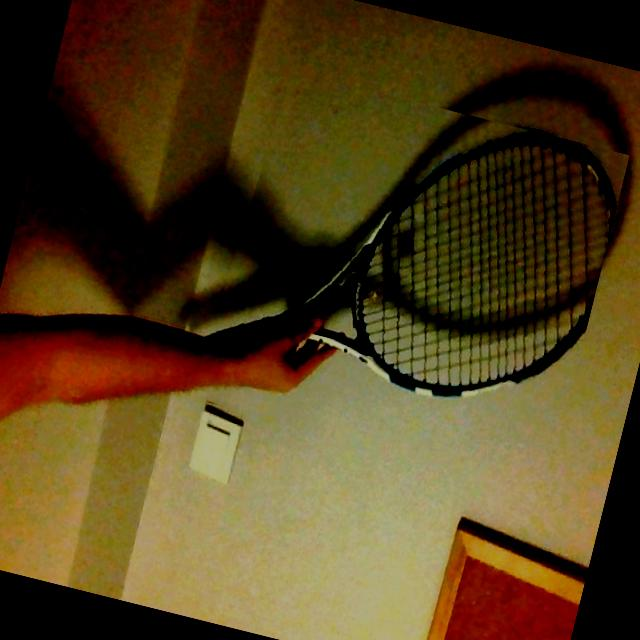TennisRacket: (187, 64, 628, 488)
